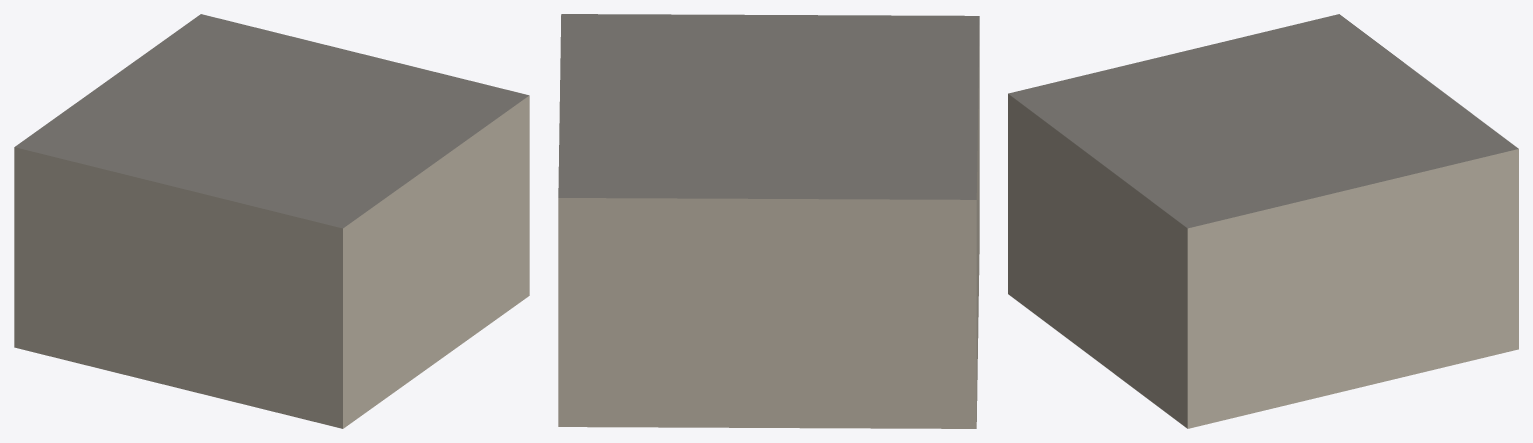
The picture shows the model from 3 angles, left to right: view 1: azimuth 30°, elevation 25°; view 2: azimuth 150°, elevation 25°; view 3: azimuth 270°, elevation 25°; orthographic projection. The views are drawn at different scales.
Parts seen in each view (by area): view 1: HP-w1286953455; view 2: HP-w1286953455; view 3: HP-w1286953455.
Boxes of the visible parts, x1,y1,x2,y2 form: HP-w1286953455: (14,14,529,428); HP-w1286953455: (558,14,979,428); HP-w1286953455: (1008,14,1518,428).
Size of the model in its own units: 34.41 by 15 by 34.64.
